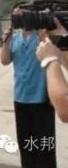boots: (0, 129, 11, 138), (0, 120, 3, 126)
hard-hat: (0, 11, 8, 23)
